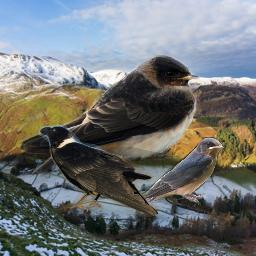Crow: (38, 123, 158, 217)
Swallow: (19, 54, 200, 178), (139, 137, 225, 206)
